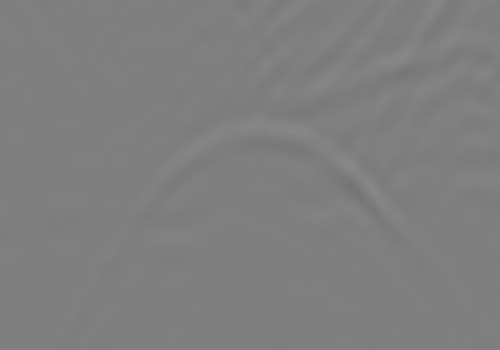hyperbola: (111, 111, 396, 295)
